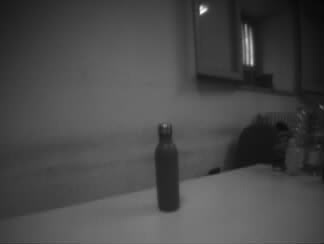Bottle: (154, 123, 181, 211), (284, 100, 307, 176)
